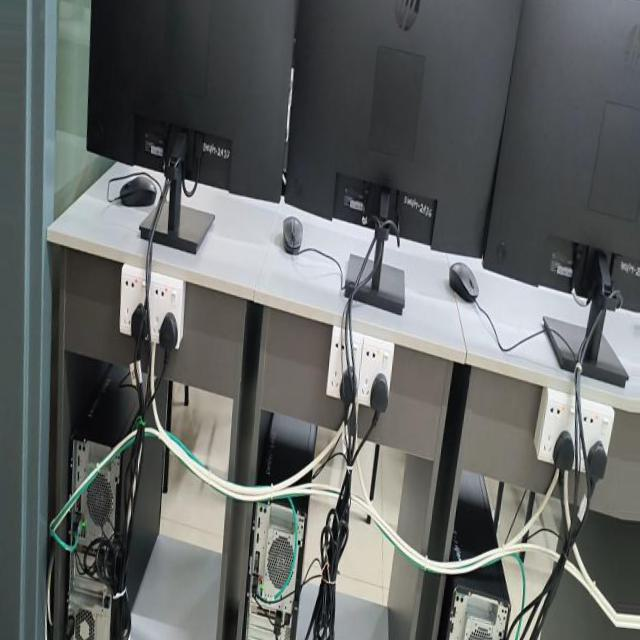Cpu: (73, 368, 171, 618), (453, 424, 533, 639), (261, 395, 325, 639)
Monitor: (65, 0, 276, 277), (277, 3, 505, 256), (482, 30, 640, 348)
Mouse: (107, 216, 146, 244), (448, 262, 479, 294), (277, 239, 297, 270)
